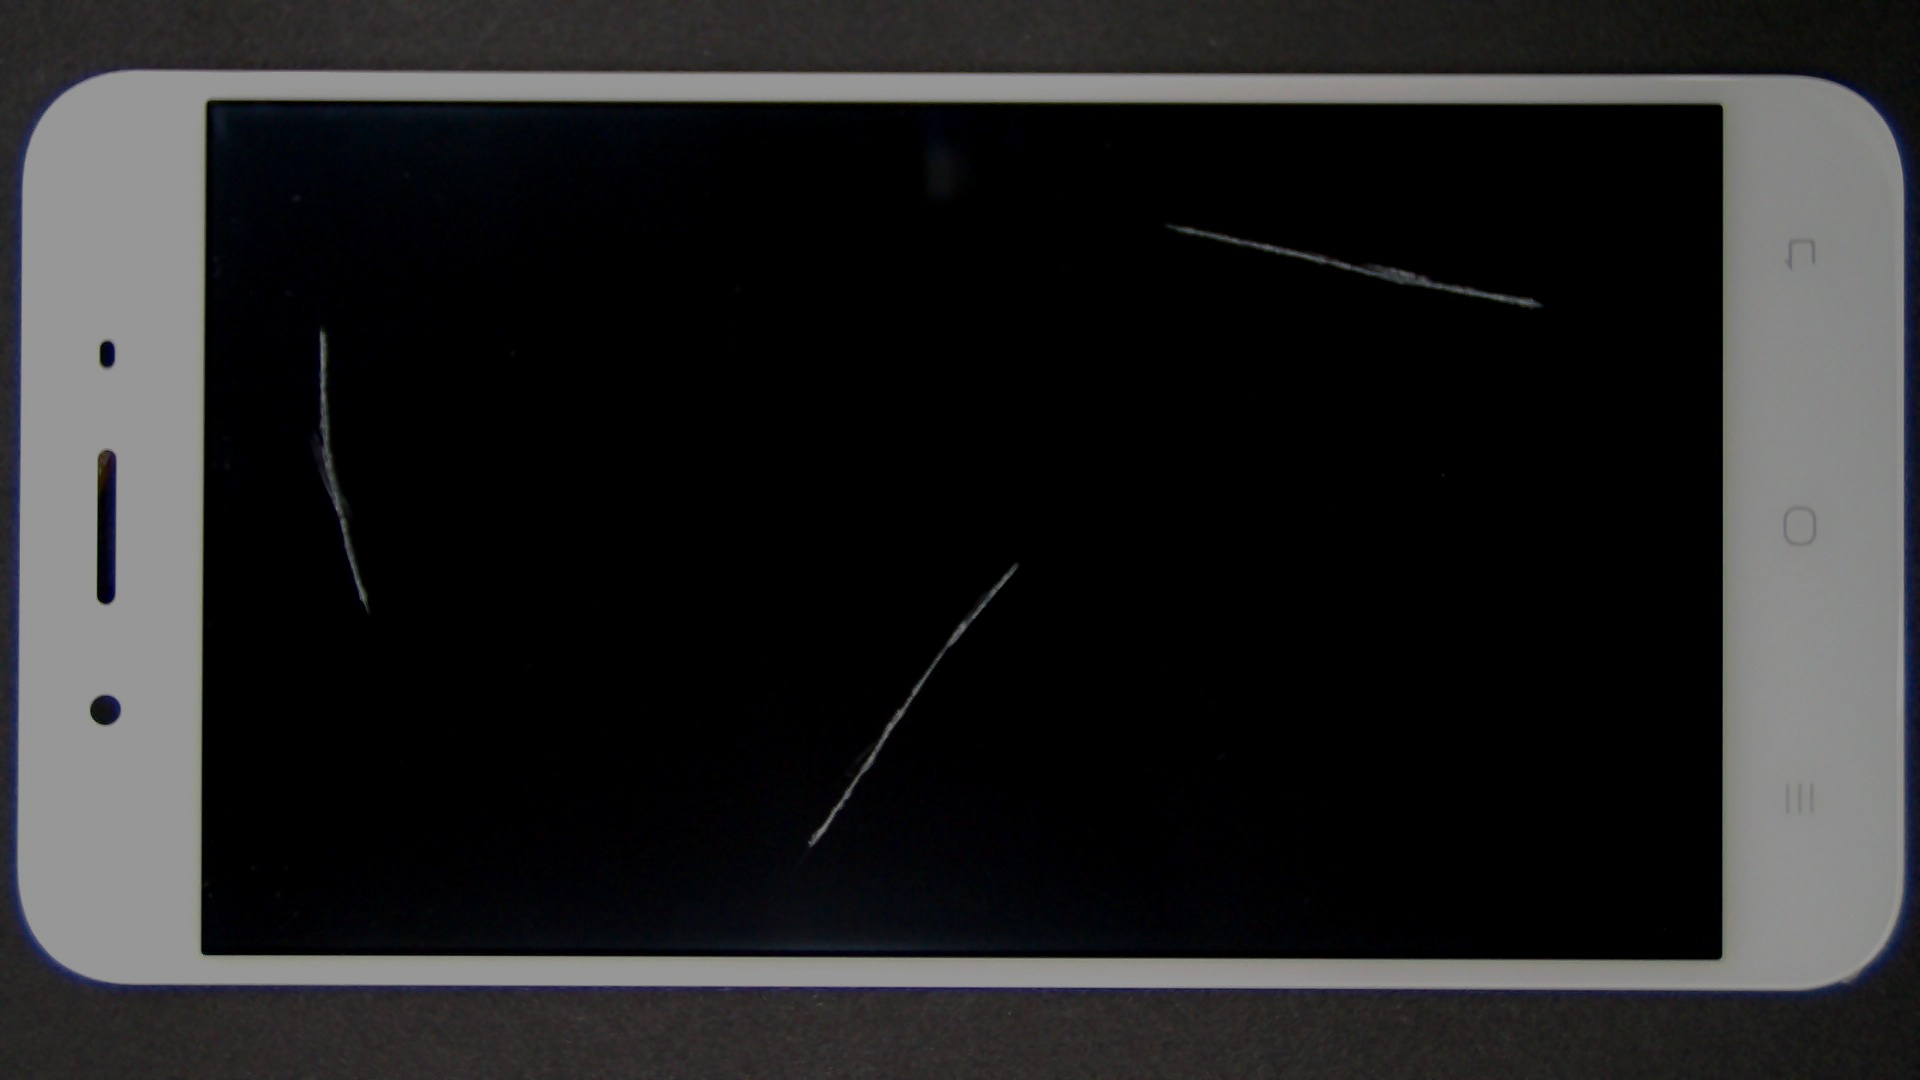oil: (510, 280, 1526, 841), (582, 111, 1745, 334), (160, 162, 480, 489)
